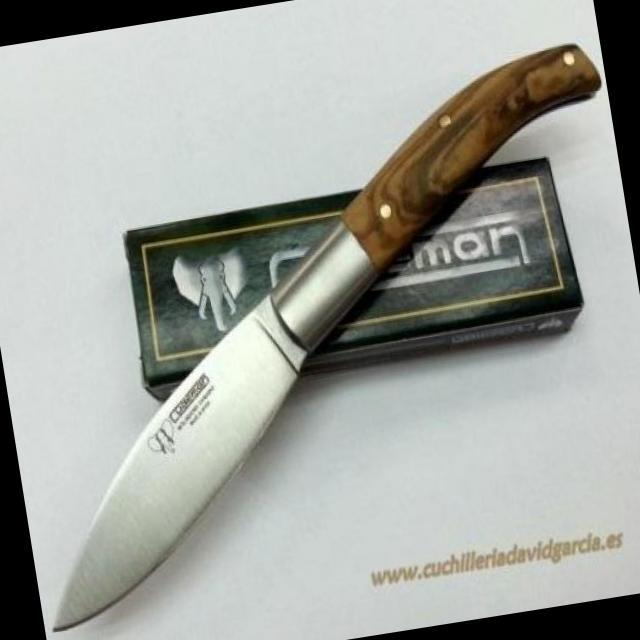Knife: (0, 266, 369, 637)
